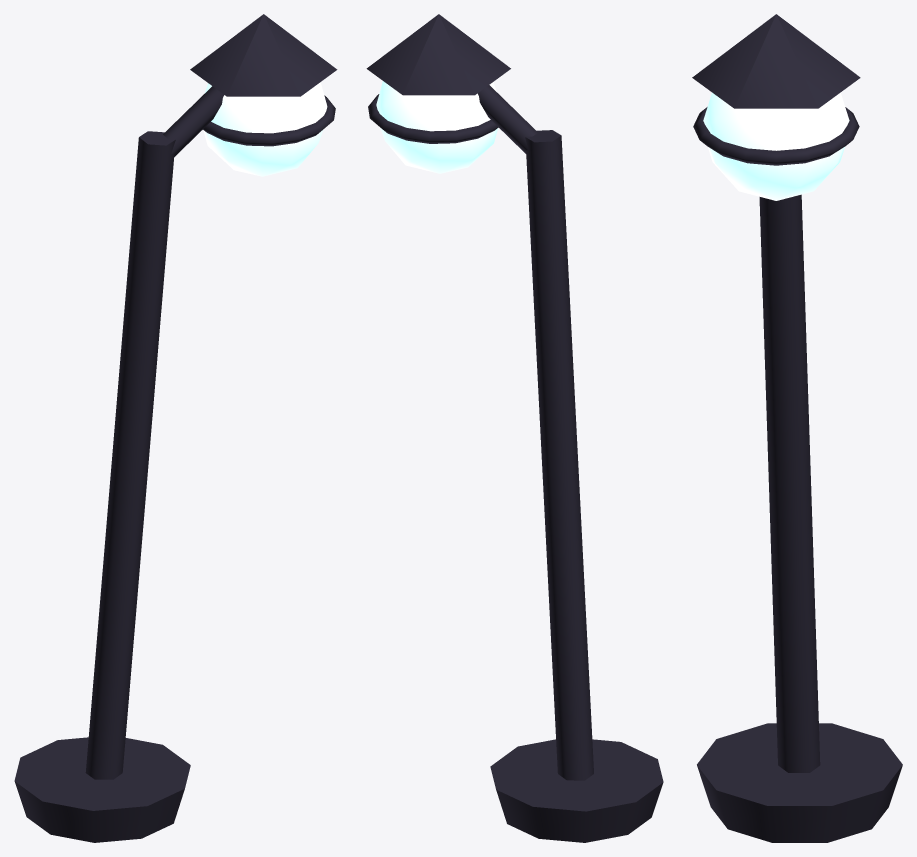
File: prop_flicker.glb
3 renders of one model, left to right at view 1: azimuth 30°, elevation 25°; view 2: azimuth 150°, elevation 25°; view 3: azimuth 270°, elevation 25°, orthographic. The views are drawn at different scales.
Visible parts, largest first — view 1: prop_flicker; view 2: prop_flicker; view 3: prop_flicker.
Boxes of the visible parts, x1,y1,x2,y2 form: prop_flicker: (14,14,337,842); prop_flicker: (366,14,663,842); prop_flicker: (692,14,902,842).
Bounding box in the file's own units: 1.62 × 4.13 × 0.9.
